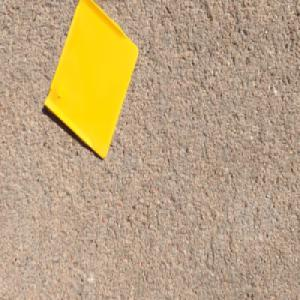PlasticPart: (42, 0, 139, 162)
